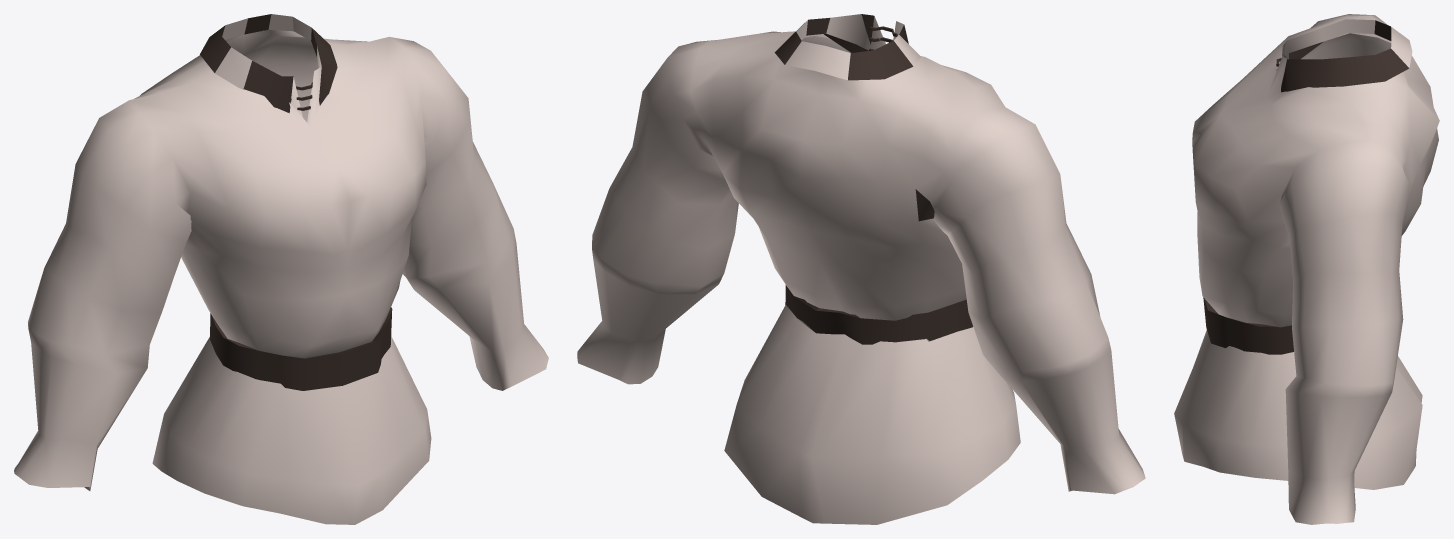
The model's file is T-shirt.fbx.
3 views of the same model, side by side, from view 1: azimuth 30°, elevation 25°; view 2: azimuth 150°, elevation 25°; view 3: azimuth 270°, elevation 25° (orthographic). The views are drawn at different scales.
Visible parts, largest first — view 1: pCube4; view 2: pCube4; view 3: pCube4.
Part boxes in pixels (x1,y1,x2,y2): pCube4: (14, 14, 548, 524); pCube4: (577, 14, 1145, 524); pCube4: (1174, 14, 1439, 524).
Size of the model in its own units: 38.47 by 30.82 by 17.27.
Materials: 2 (2 with a texture image).
